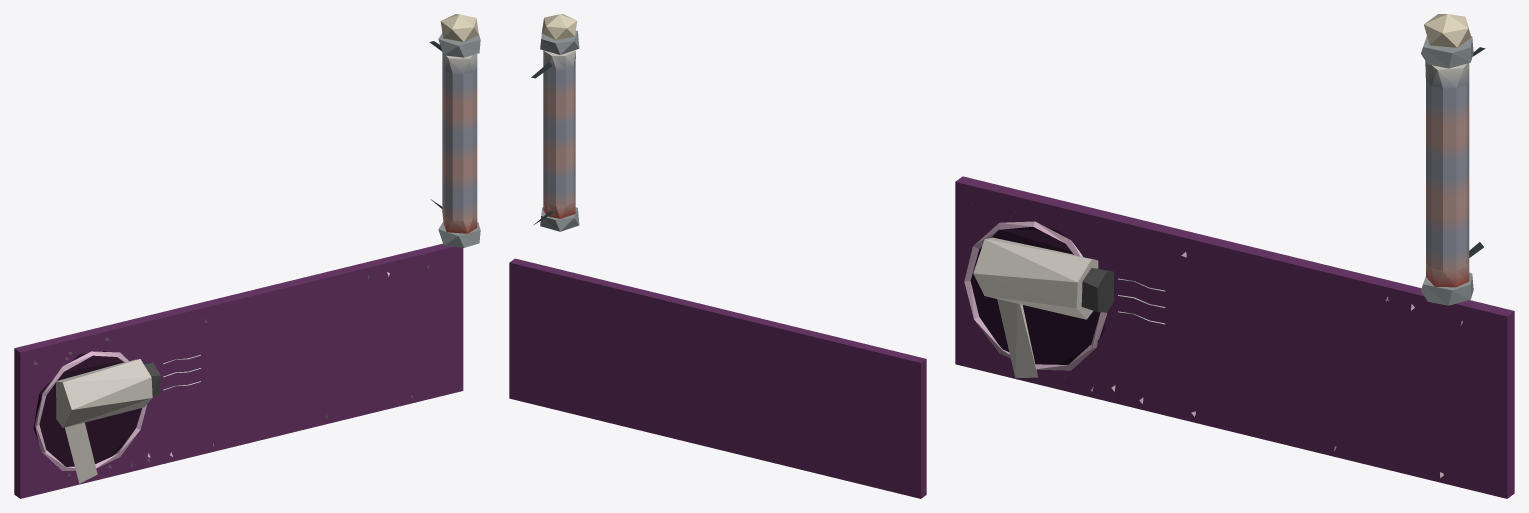
File: bang_salon_toc_my_linh_40.glb
The picture shows the model from 3 angles, left to right: view 1: azimuth 30°, elevation 25°; view 2: azimuth 150°, elevation 25°; view 3: azimuth 330°, elevation 25°; orthographic projection. The views are drawn at different scales.
Visible parts, largest first — view 1: bang_salon_toc_my_linh_40; view 2: bang_salon_toc_my_linh_40; view 3: bang_salon_toc_my_linh_40.
Boxes of the visible parts, bbox=[...] form: bang_salon_toc_my_linh_40: bbox=[14, 14, 480, 498]; bang_salon_toc_my_linh_40: bbox=[509, 14, 926, 498]; bang_salon_toc_my_linh_40: bbox=[955, 14, 1514, 498].
Bounding box in the file's own units: 3.8 × 3.27 × 0.5722.
